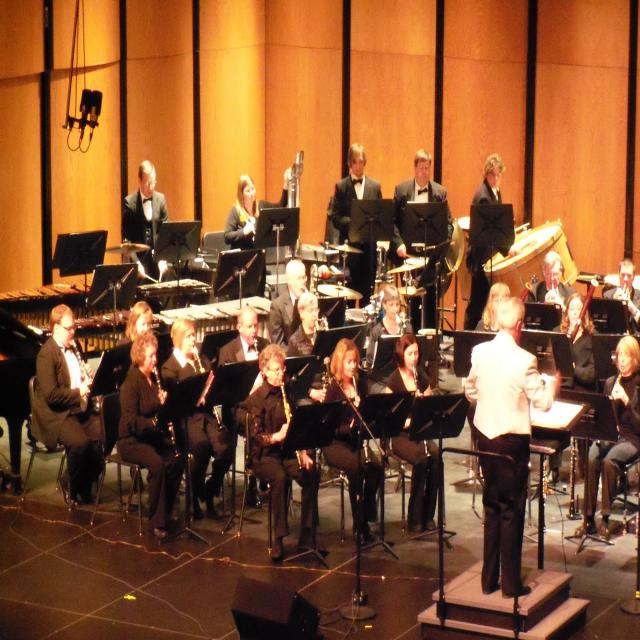clarinet: (152, 363, 183, 460), (192, 347, 226, 433), (278, 379, 308, 471), (595, 370, 625, 448), (350, 371, 374, 467), (410, 364, 432, 461), (70, 338, 100, 408), (566, 439, 580, 519), (252, 339, 262, 360)
drums: (307, 241, 443, 305)
saxophone: (395, 311, 407, 334)
